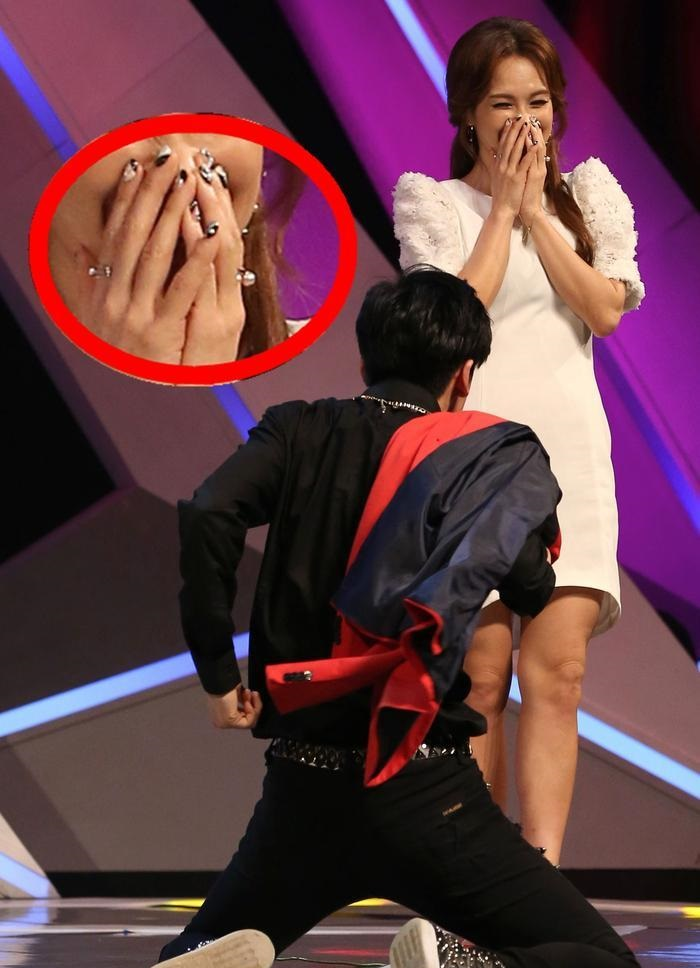face: (475, 54, 550, 182)
